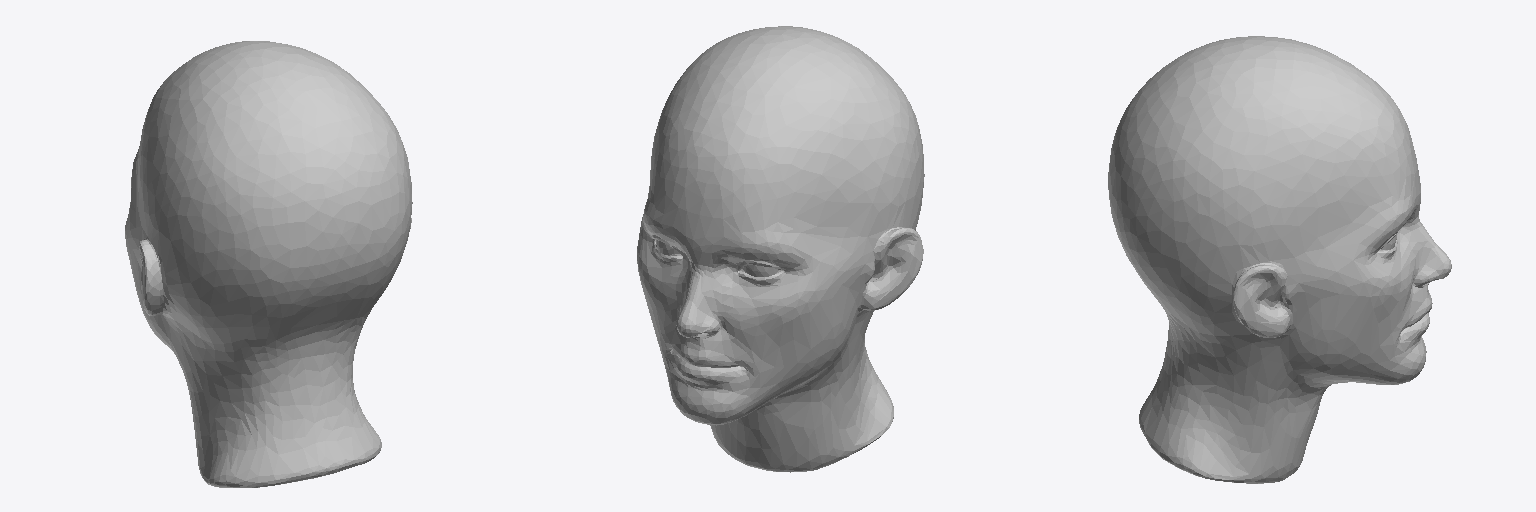
Rendered from head.obj.
3 renders of one model, left to right at view 1: azimuth 30°, elevation 25°; view 2: azimuth 150°, elevation 25°; view 3: azimuth 270°, elevation 25°, orthographic.
Visible parts, largest first — view 1: head.001; view 2: head.001; view 3: head.001.
Part boxes in pixels (x1,y1,x2,y2): head.001: (125,41,412,487); head.001: (637,26,924,472); head.001: (1108,36,1451,483).
Size of the model in its own units: 3.87 by 5.78 by 4.32.